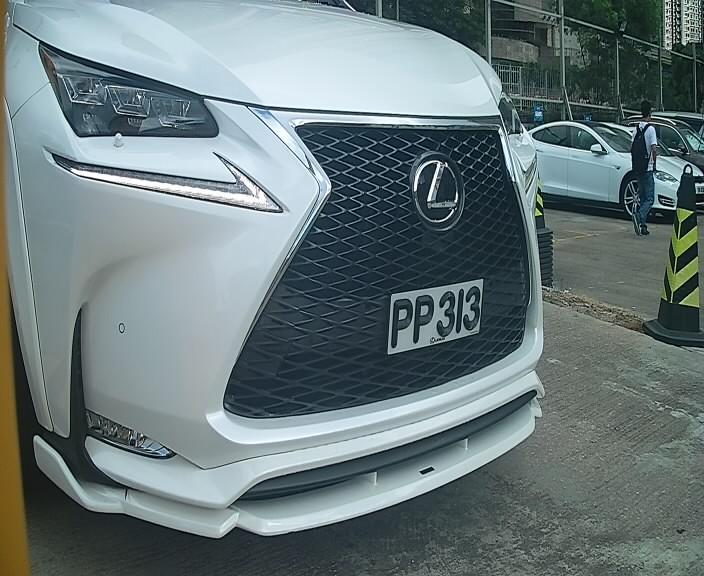License Plate: (381, 268, 491, 363)
